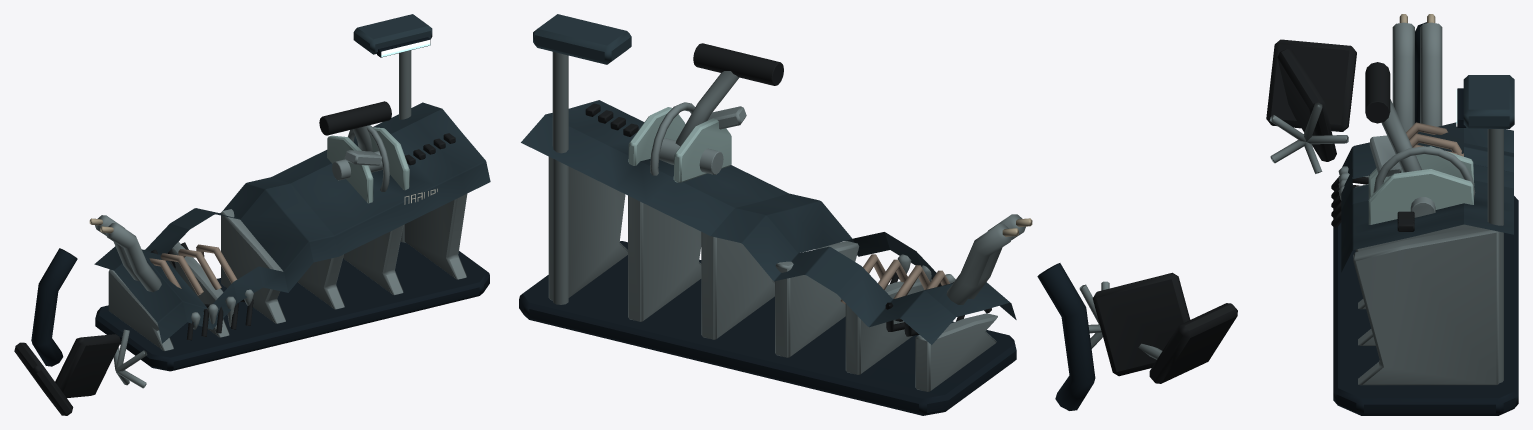
The model's file is dais.glb.
3 renders of one model, left to right at view 1: azimuth 30°, elevation 25°; view 2: azimuth 150°, elevation 25°; view 3: azimuth 270°, elevation 25°, orthographic. The views are drawn at different scales.
Parts seen in each view (by area): view 1: burned-manual-dais--e9-body, burned-manual-dais--p11-steel, burned-manual-dais--e9-dark, burned-manual-dais--p11-rubber, burned-manual-dais--e9-trim, burned-manual-dais--p11-tint-metal; view 2: burned-manual-dais--p11-steel, burned-manual-dais--e9-body, burned-manual-dais--e9-dark, burned-manual-dais--p11-rubber, burned-manual-dais--e9-trim, burned-manual-dais--p11-tint-metal; view 3: burned-manual-dais--p11-steel, burned-manual-dais--e9-dark, burned-manual-dais--e9-body, burned-manual-dais--p11-rubber, burned-manual-dais--e9-trim, burned-manual-dais--p11-tint-metal.
Part boxes in pixels (x1=…): burned-manual-dais--e9-body: x1=94, y1=14, x2=490, y2=343; burned-manual-dais--p11-steel: x1=95, y1=50, x2=467, y2=388; burned-manual-dais--e9-dark: x1=31, y1=37, x2=489, y2=371; burned-manual-dais--p11-rubber: x1=14, y1=101, x2=455, y2=415; burned-manual-dais--e9-trim: x1=327, y1=127, x2=409, y2=203; burned-manual-dais--p11-tint-metal: x1=89, y1=218, x2=237, y2=295; burned-manual-dais--p11-steel: x1=548, y1=52, x2=1162, y2=391; burned-manual-dais--e9-body: x1=521, y1=14, x2=1016, y2=344; burned-manual-dais--e9-dark: x1=519, y1=241, x2=1095, y2=415; burned-manual-dais--p11-rubber: x1=585, y1=43, x2=1237, y2=383; burned-manual-dais--e9-trim: x1=628, y1=107, x2=731, y2=182; burned-manual-dais--p11-tint-metal: x1=840, y1=218, x2=1032, y2=304; burned-manual-dais--p11-steel: x1=1269, y1=22, x2=1503, y2=385; burned-manual-dais--e9-dark: x1=1333, y1=22, x2=1518, y2=415; burned-manual-dais--e9-body: x1=1341, y1=75, x2=1514, y2=272; burned-manual-dais--p11-rubber: x1=1266, y1=39, x2=1414, y2=231; burned-manual-dais--e9-trim: x1=1368, y1=146, x2=1474, y2=224; burned-manual-dais--p11-tint-metal: x1=1399, y1=14, x2=1463, y2=156.
Size of the model in its own units: 6.33 by 2.89 by 2.22.
